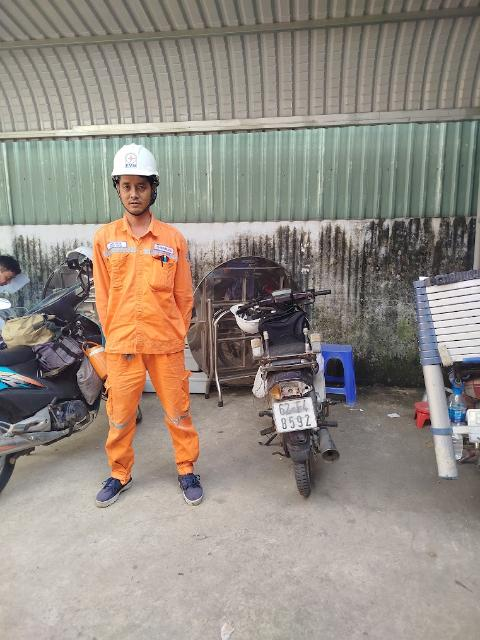helmet: (89, 124, 175, 192)
shoes: (158, 464, 211, 512), (80, 464, 136, 509)
